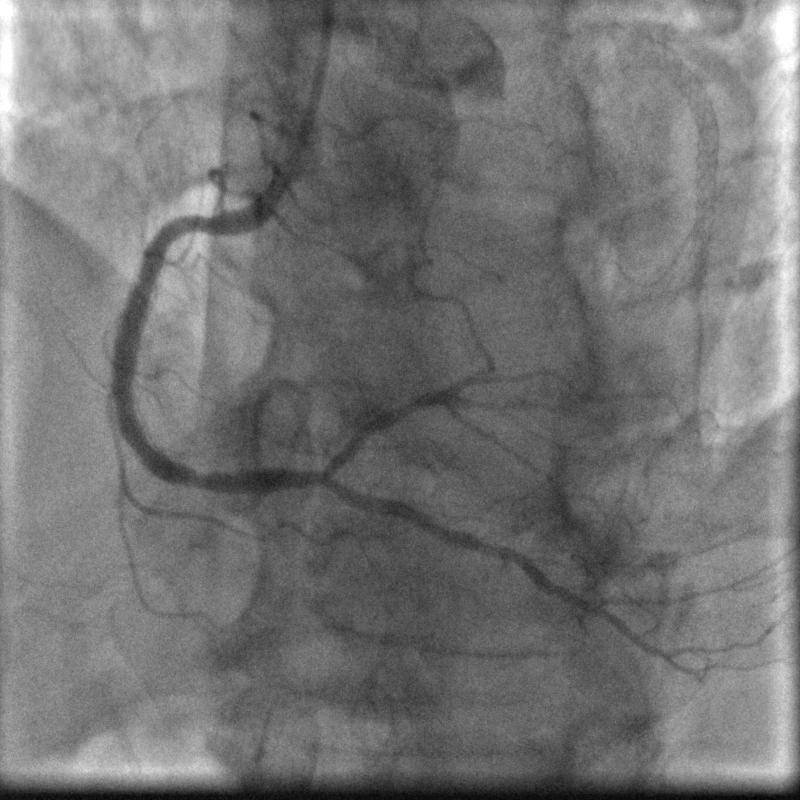Stenosis: (179, 197, 227, 244)
